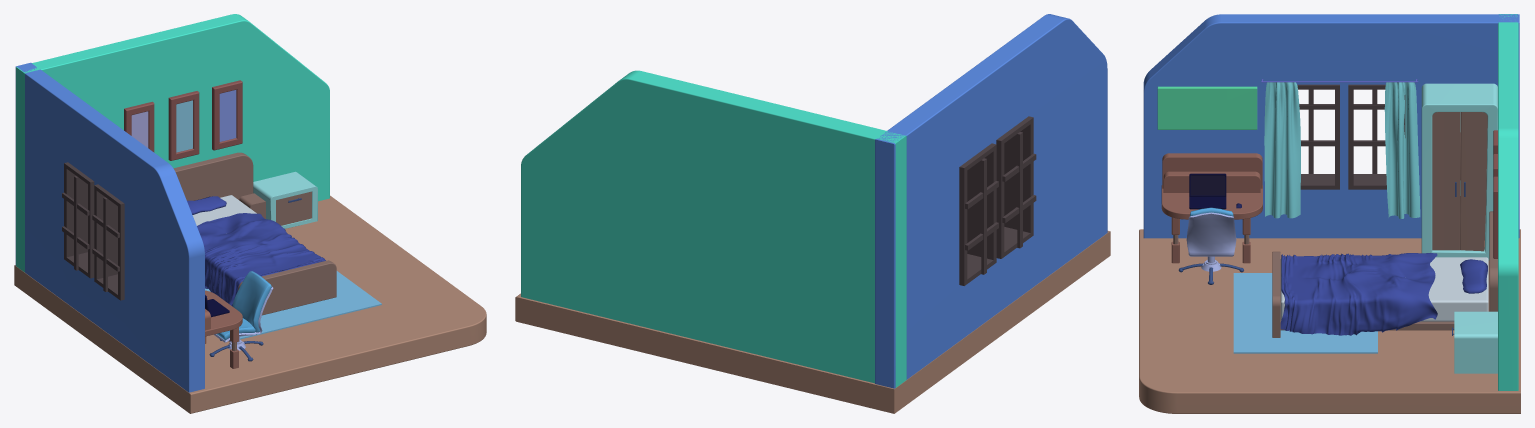
Rendered from bedroom-nobody.gltf.
3 renders of one model, left to right at view 1: azimuth 30°, elevation 25°; view 2: azimuth 150°, elevation 25°; view 3: azimuth 270°, elevation 25°, orthographic. The views are drawn at different scales.
Visible parts, largest first — view 1: Room6.002; view 2: Room6.002; view 3: Room6.002.
Boxes of the visible parts, x1=… form: Room6.002: x1=14, y1=14, x2=486, y2=413; Room6.002: x1=515, y1=14, x2=1110, y2=413; Room6.002: x1=1139, y1=14, x2=1520, y2=413.
Bounding box in the file's own units: 0.7894 × 0.5239 × 0.7637.
